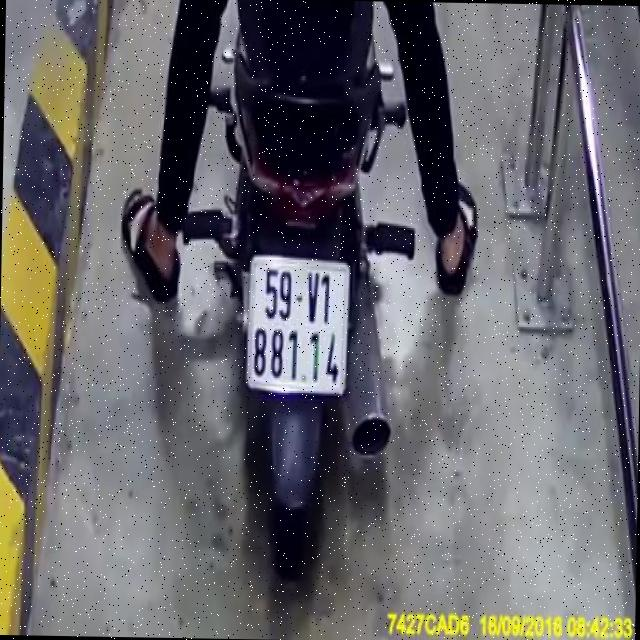license_plate: (247, 251, 351, 399)
